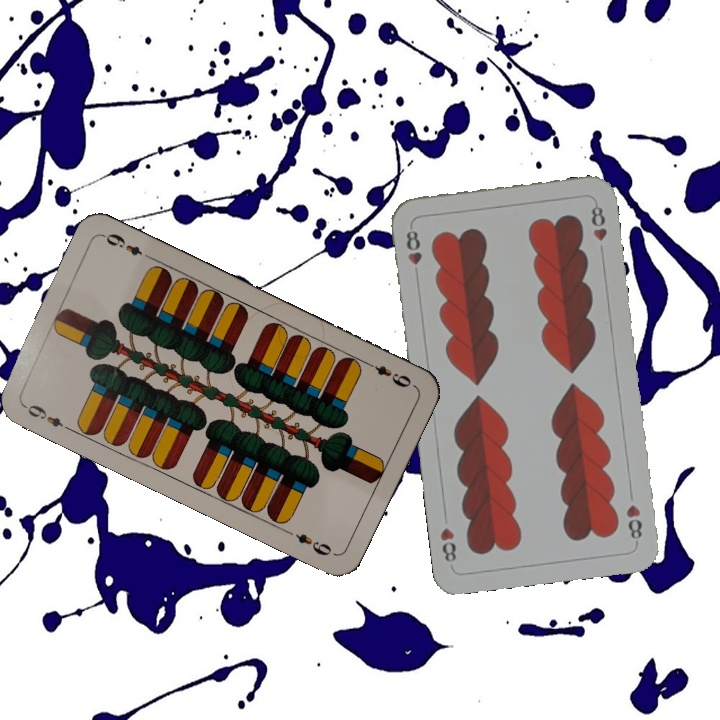E9: (361, 357, 417, 391), (19, 400, 74, 434)
H8: (622, 500, 645, 546), (402, 226, 425, 267)
